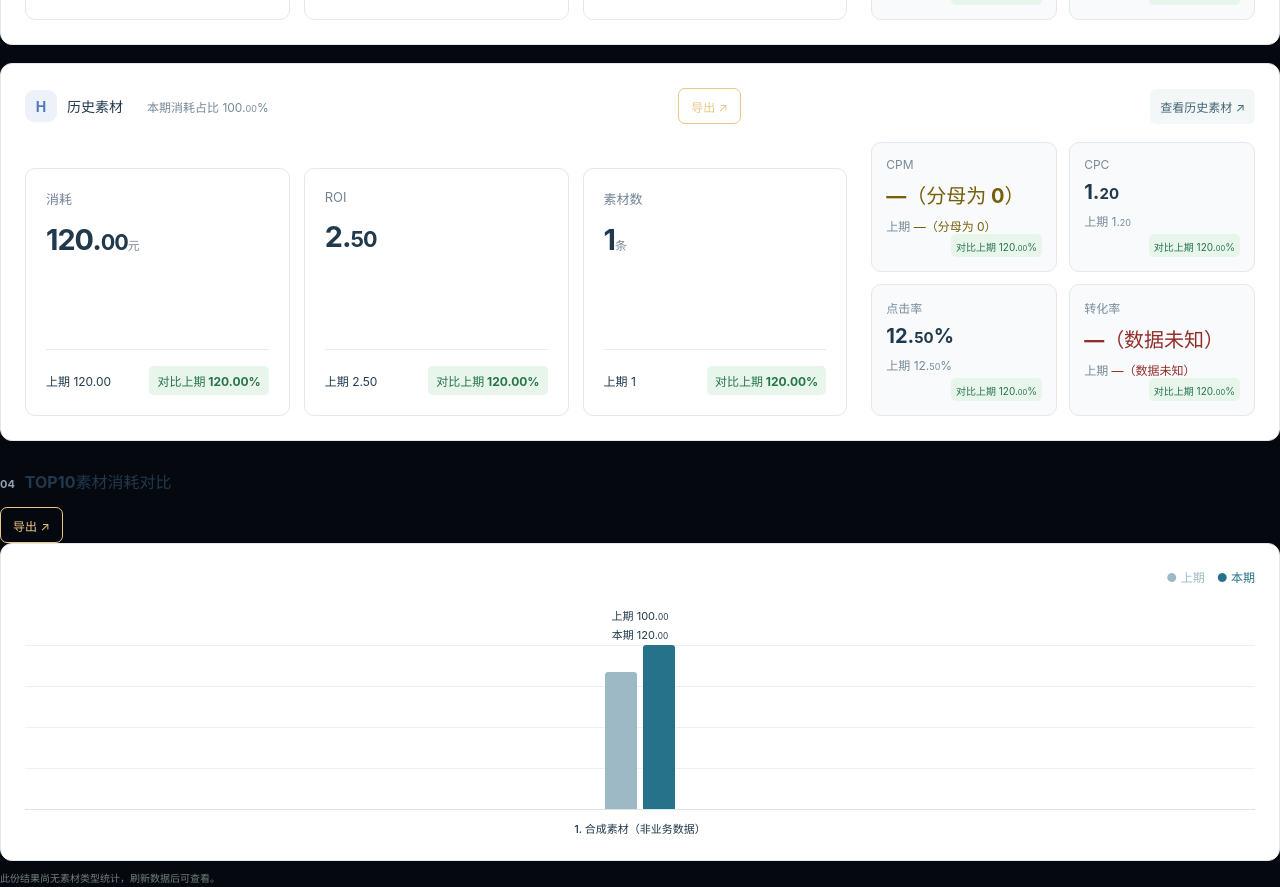
Test: complete-scope material filters › reads the complete overall list then filters before limiting, preserving chart and totals
(page scrolled)
Click the button "上期 100.00 本期 120.00 1. 合成素材（非业务数据）" at (640, 722), box [25, 607, 1255, 836]
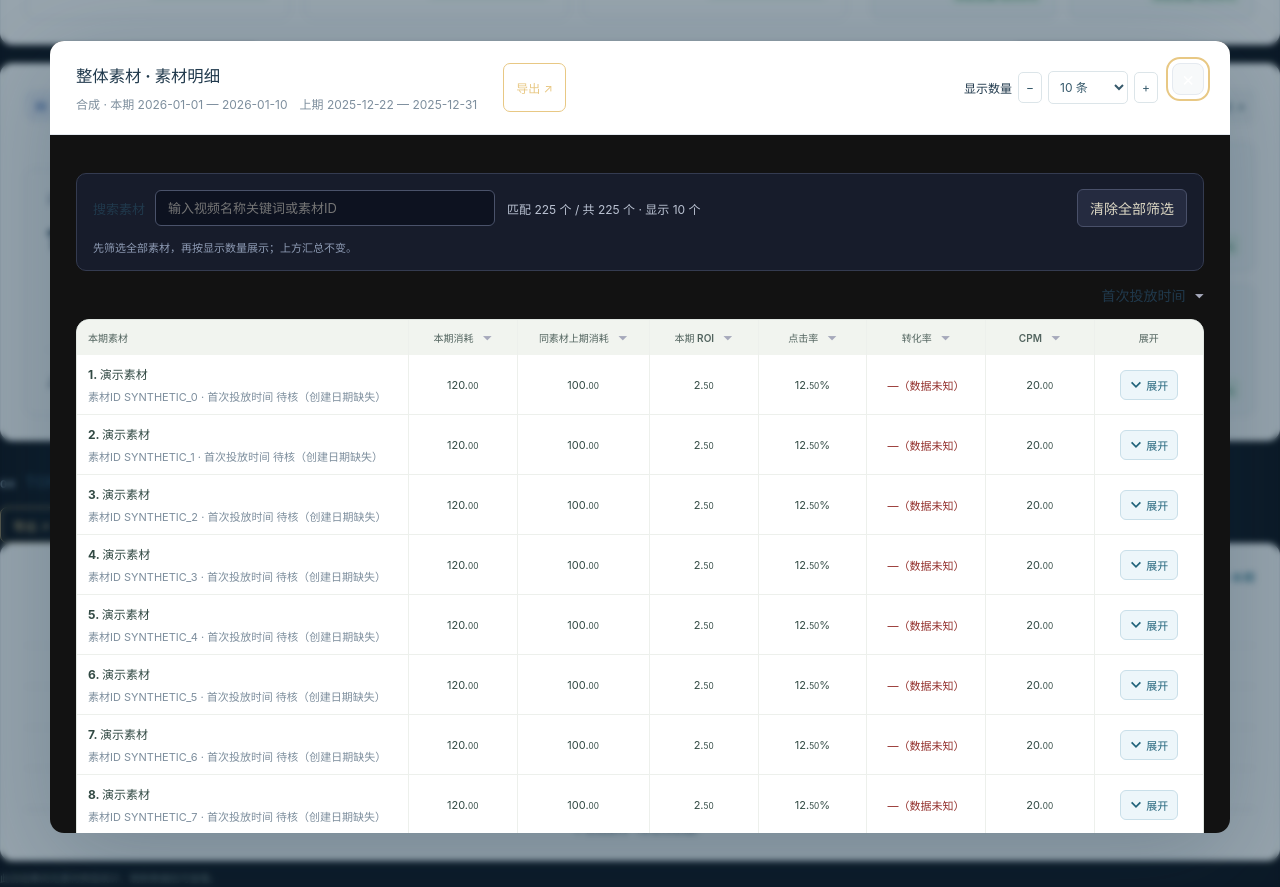
Type "ai末尾目标" into the search field named "搜索素材名称或ID" at (325, 208), box [155, 190, 495, 226]
(page scrolled)
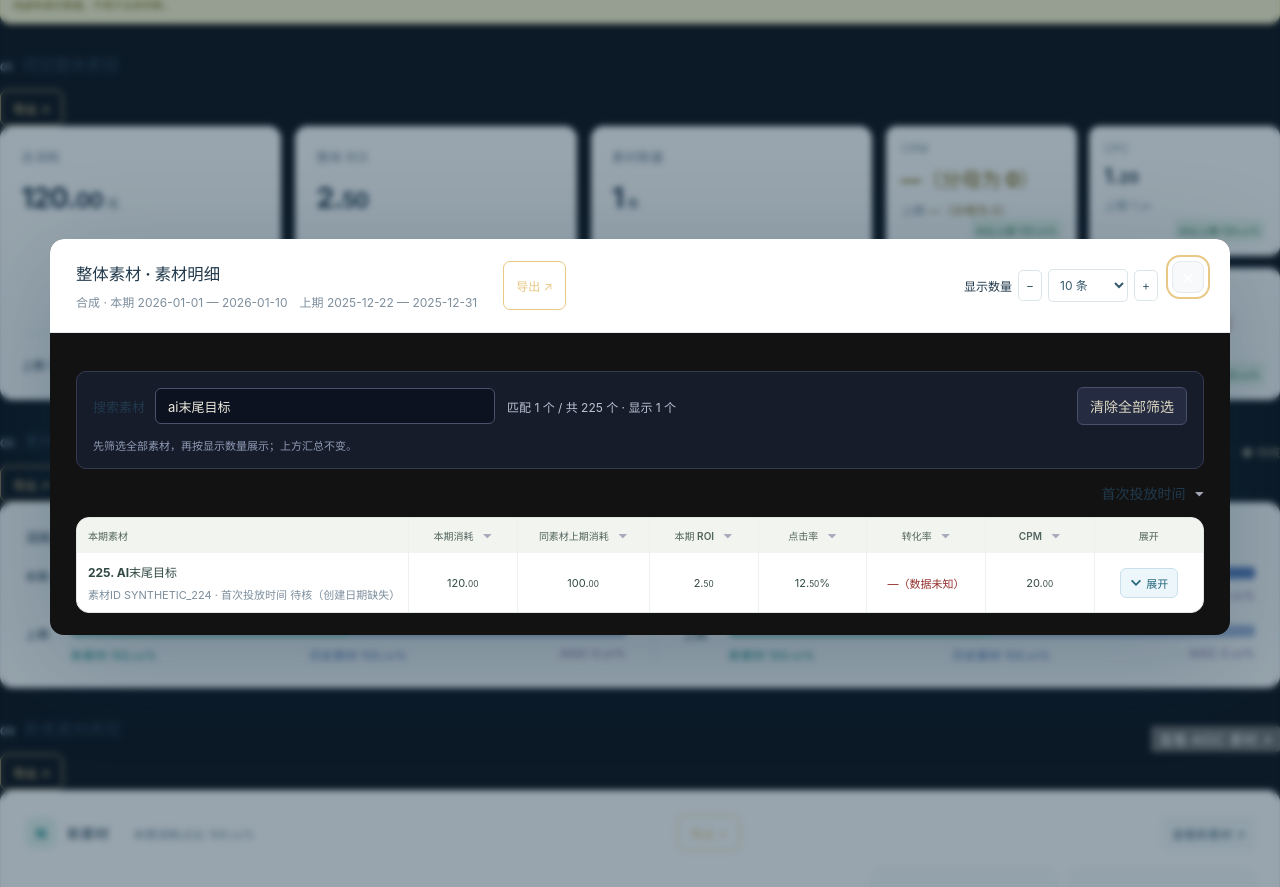
Result: the table shows "SYNTHETIC_224" at [88, 588, 400, 602]
Result: the message "匹配 1 个 / 共 225 个 · 显示 1 个" is shown at [507, 398, 676, 414]
